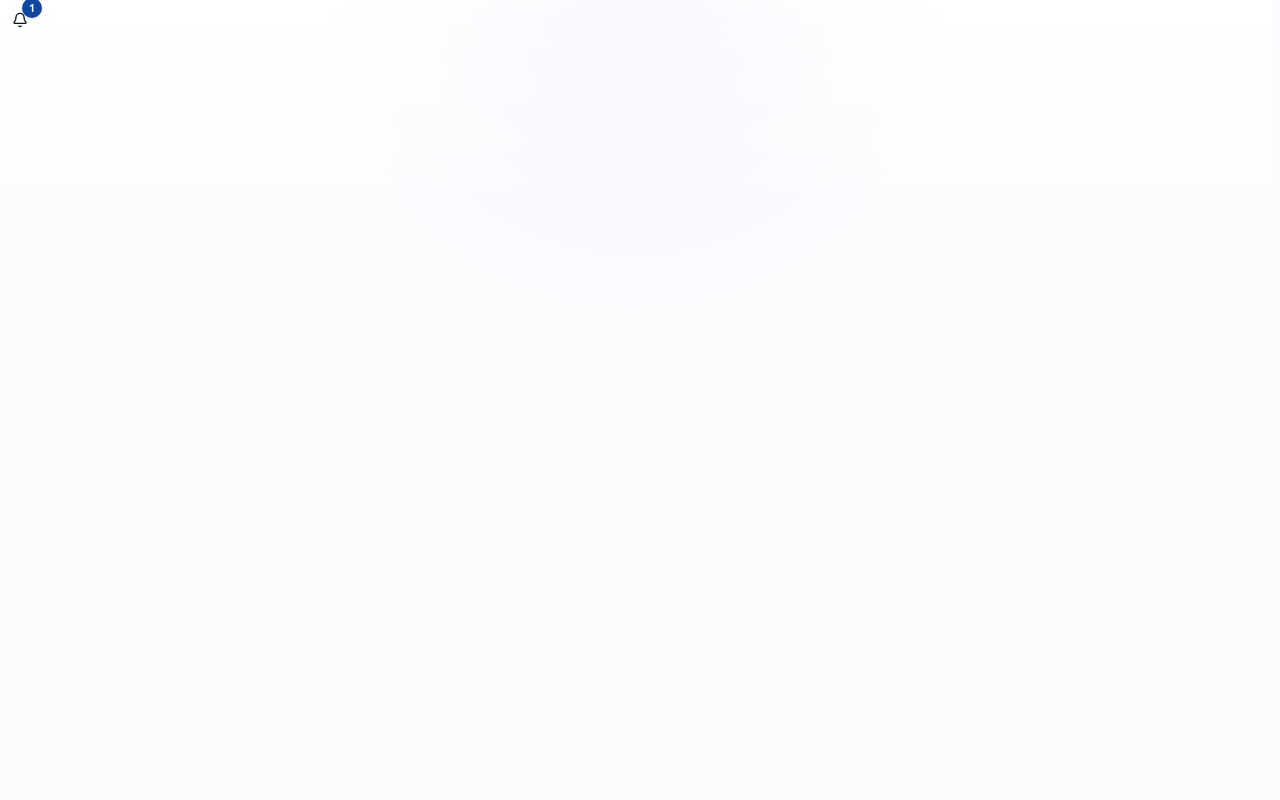
it: NotificationBell › asks for confirmation before deleting a notification from the bell dropdown
Later steps or results of the test are not shown.
Press the mouse on the button named "Notifications" at coordinates (20, 20), box [0,0,40,40]
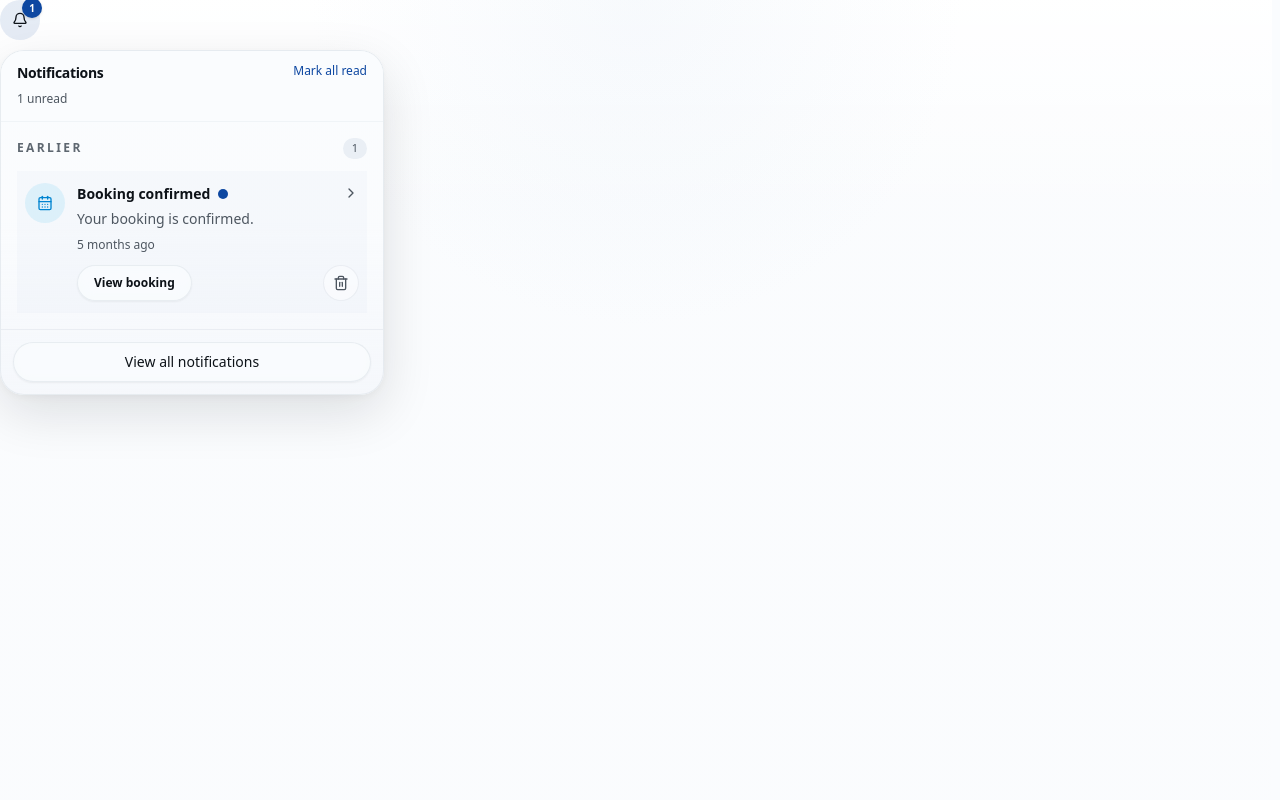
Expected: the text "Booking confirmed" is shown, [77,182,210,204]
Click the button named "Delete notification". click: coordinates (341, 282)
box: [323,264,359,300]
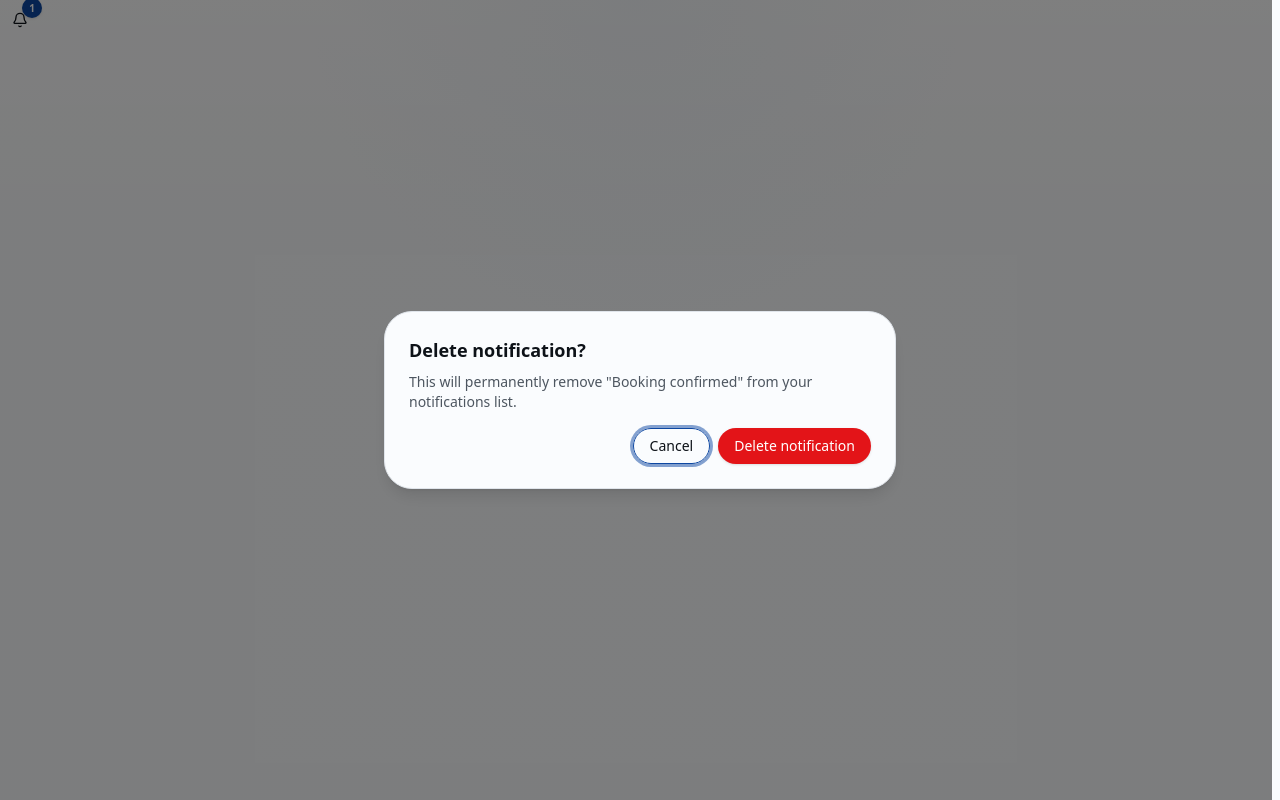
Expected: the dialog is shown, [384,311,896,489]
